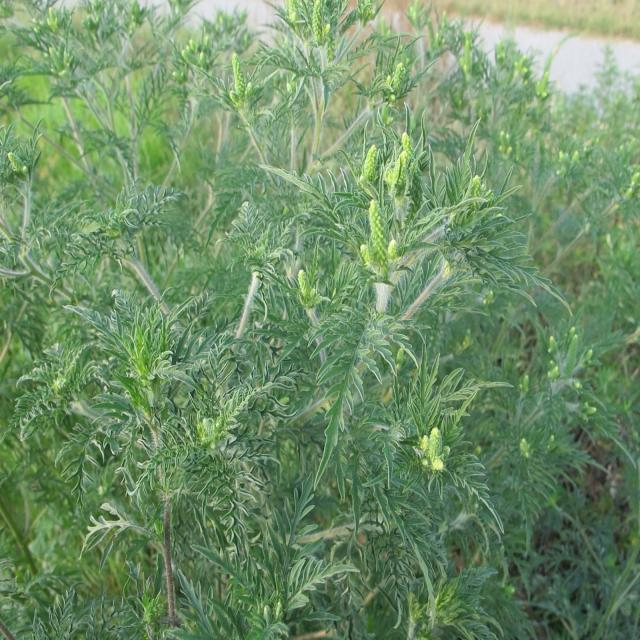ambrosia: (61, 253, 268, 531), (320, 120, 520, 356), (259, 0, 414, 97), (400, 390, 489, 492)
